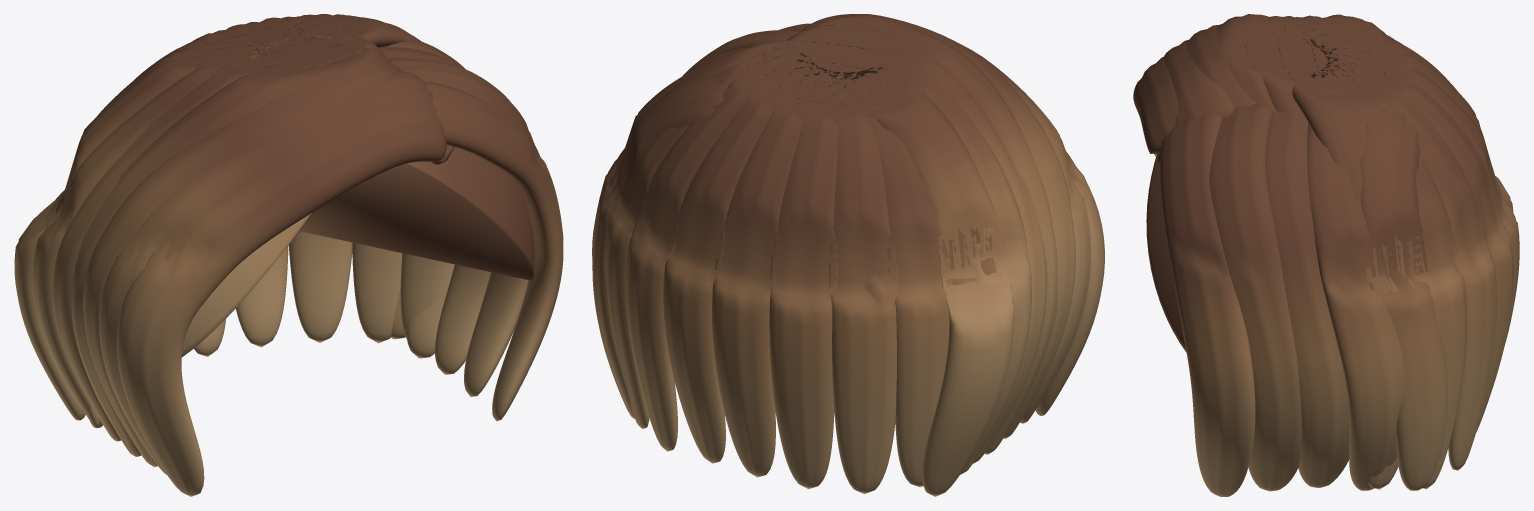
The model's file is Ombre-daeda9edd0b0253-hair.glb.
3 views of the same model, side by side, from view 1: azimuth 30°, elevation 25°; view 2: azimuth 150°, elevation 25°; view 3: azimuth 270°, elevation 25° (orthographic). The views are drawn at different scales.
Parts seen in each view (by area): view 1: 226 hair / Hair / sculpted 0.004, 226 hair / Hair / sculpted 1.007, 226 hair / Hair / sculpted 2.004, 226 hair / Hair / sculpted 1; view 2: 226 hair / Hair / sculpted 0.004, 226 hair / Hair / sculpted 2.004, 226 hair / Hair / sculpted 1.007; view 3: 226 hair / Hair / sculpted 1.007, 226 hair / Hair / sculpted 2.004, 226 hair / Hair / sculpted 0.004, 226 hair / Hair / sculpted 1.
Part boxes in pixels (x1,y1,x2,y2): 226 hair / Hair / sculpted 0.004: (14,14,490,496); 226 hair / Hair / sculpted 1.007: (52,16,563,474); 226 hair / Hair / sculpted 2.004: (33,14,534,467); 226 hair / Hair / sculpted 1: (181,147,534,357); 226 hair / Hair / sculpted 0.004: (625,16,1104,496); 226 hair / Hair / sculpted 2.004: (592,14,1075,487); 226 hair / Hair / sculpted 1.007: (592,14,1090,494); 226 hair / Hair / sculpted 1.007: (1160,16,1513,496); 226 hair / Hair / sculpted 2.004: (1184,15,1519,491); 226 hair / Hair / sculpted 0.004: (1133,14,1513,488); 226 hair / Hair / sculpted 1: (1146,153,1186,352).
Size of the model in its own units: 1.02 by 0.8387 by 0.7806.
4 materials, 4 textured.
